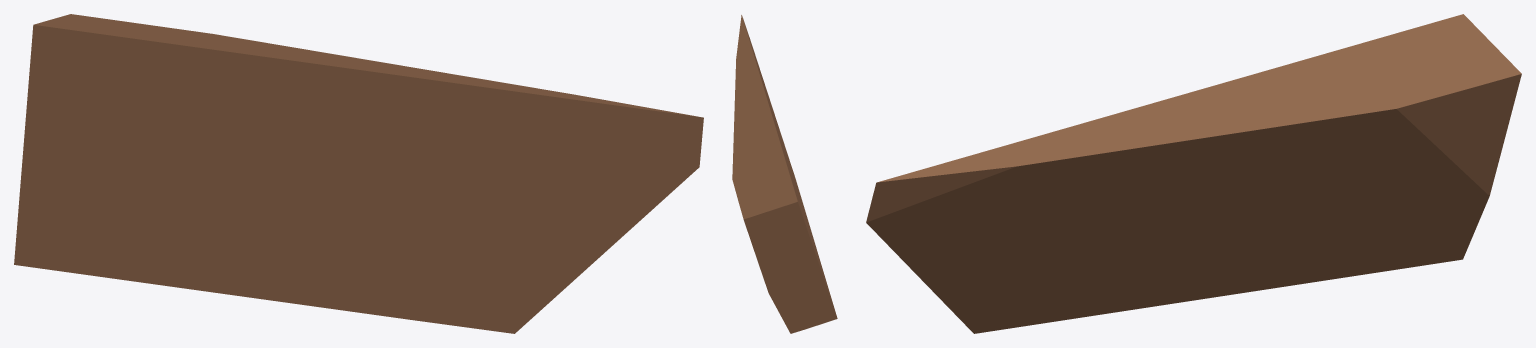
The model's file is WoodCellCube_003_cell_002.fbx.
3 renders of one model, left to right at view 1: azimuth 30°, elevation 25°; view 2: azimuth 150°, elevation 25°; view 3: azimuth 270°, elevation 25°, orthographic. The views are drawn at different scales.
Parts seen in each view (by area): view 1: WoodCellCube_003_cell_002; view 2: WoodCellCube_003_cell_002; view 3: WoodCellCube_003_cell_002.
Boxes of the visible parts, x1,y1,x2,y2 form: WoodCellCube_003_cell_002: [14, 14, 703, 333]; WoodCellCube_003_cell_002: [732, 15, 837, 333]; WoodCellCube_003_cell_002: [866, 14, 1521, 333].
Bounding box in the file's own units: 0.5944 × 0.2627 × 0.4596.
Materials: 1 (1 with a texture image).
